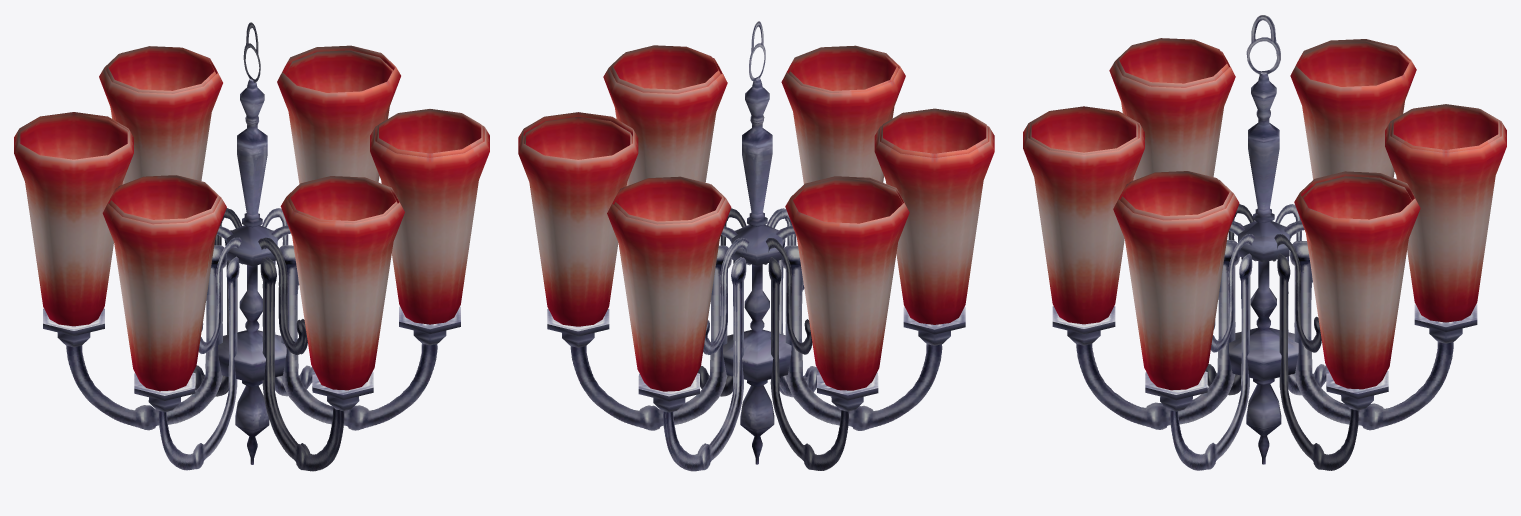
File: furni_0201102_02.FBX
3 views of the same model, side by side, from view 1: azimuth 30°, elevation 25°; view 2: azimuth 150°, elevation 25°; view 3: azimuth 270°, elevation 25° (orthographic).
Visible parts, largest first — view 1: furni_0201102_02; view 2: furni_0201102_02; view 3: furni_0201102_02.
Part boxes in pixels (x1,y1,x2,y2): furni_0201102_02: (14, 22, 489, 471); furni_0201102_02: (518, 21, 994, 471); furni_0201102_02: (1023, 15, 1506, 470).
Size of the model in its own units: 71.93 by 81.01 by 78.96.
Materials: 1 (1 with a texture image).
